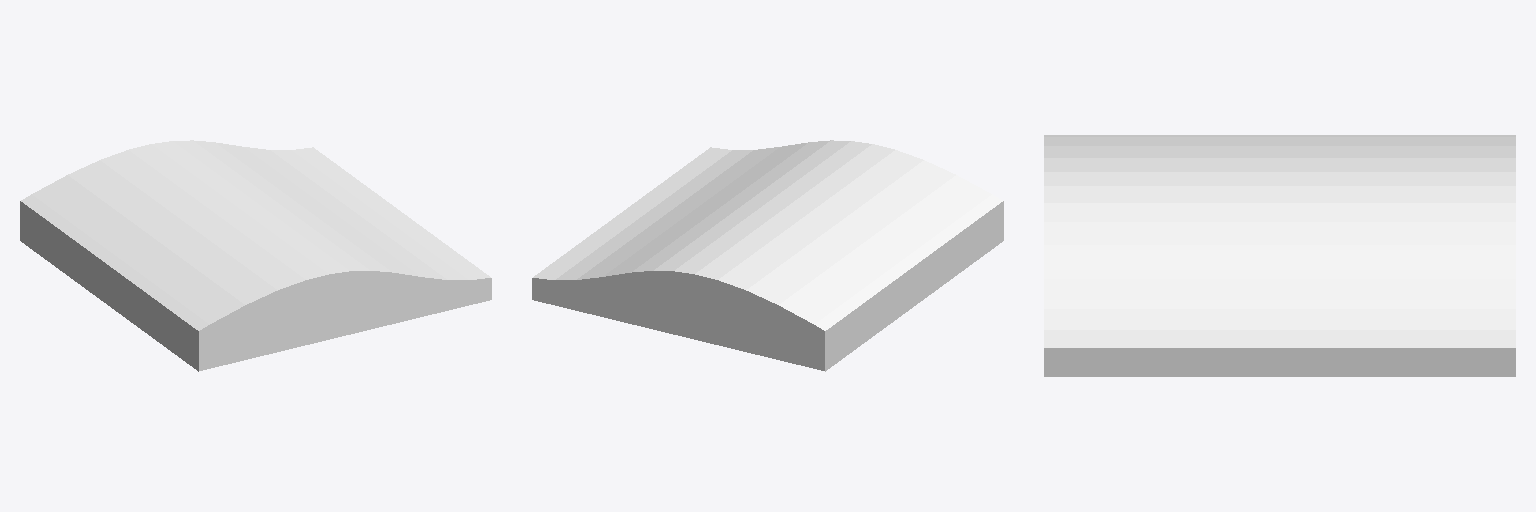
robot.urdf — wave1.sldprt:
<?xml version="1.0" encoding="utf-8"?>
<!-- This URDF was automatically created by SolidWorks to URDF Exporter! Originally created by [author] ([email redacted]) 
     Commit Version: 1.5.1-0-g916b5db  Build Version: 1.5.7152.31018
     For more information, please see http://wiki.ros.org/sw_urdf_exporter -->
<robot
  name="wave1.sldprt">
  <link
    name="wave1">
    <inertial>
      <origin
        xyz="-0.40731 0.4 0.016672"
        rpy="0 0 0" />
      <mass
        value="42.204" />
      <inertia
        ixx="2.3257"
        ixy="9.28309999963182E-08"
        ixz="0.060131"
        iyy="1.6668"
        iyz="3.11820000013324E-06"
        izz="3.8428" />
    </inertial>
    <visual>
      <origin
        xyz="0 0 0"
        rpy="1.5707963267949 0 0" />
      <geometry>
        <mesh
          filename="package://wave1/meshes/wave1.STL" />
      </geometry>
      <material
        name="">
        <color
          rgba="1 1 1 1" />
        <texture
          filename="package://wave1/textures/" />
      </material>
    </visual>
    <collision>
      <origin
        xyz="0 0 0"
        rpy="1.5707963267949 0 0" />
      <geometry>
        <mesh
          filename="package://wave1/meshes/wave1.STL" />
      </geometry>
    </collision>
  </link>
</robot>

--- Facts derived from the render (not from the file) ---
3 views of the same robot in one strip: view 1: azimuth 30°, elevation 25°; view 2: azimuth 150°, elevation 25°; view 3: azimuth 270°, elevation 25° (orthographic).
Model wave1.sldprt with 1 links and 0 joints (none), rooted at wave1, posed all joints at 0.
Links seen in each view (by area): view 1: wave1; view 2: wave1; view 3: wave1.
Link boxes in pixels (x1,y1,x2,y2): wave1: (20, 140, 491, 371); wave1: (532, 140, 1003, 371); wave1: (1044, 135, 1515, 376).
Size in the robot's own frame: 0.76 by 0.8 by 0.162 metres.
Meshes: 1 distinct files referenced, 1 mesh visuals loaded (1 binary STL).